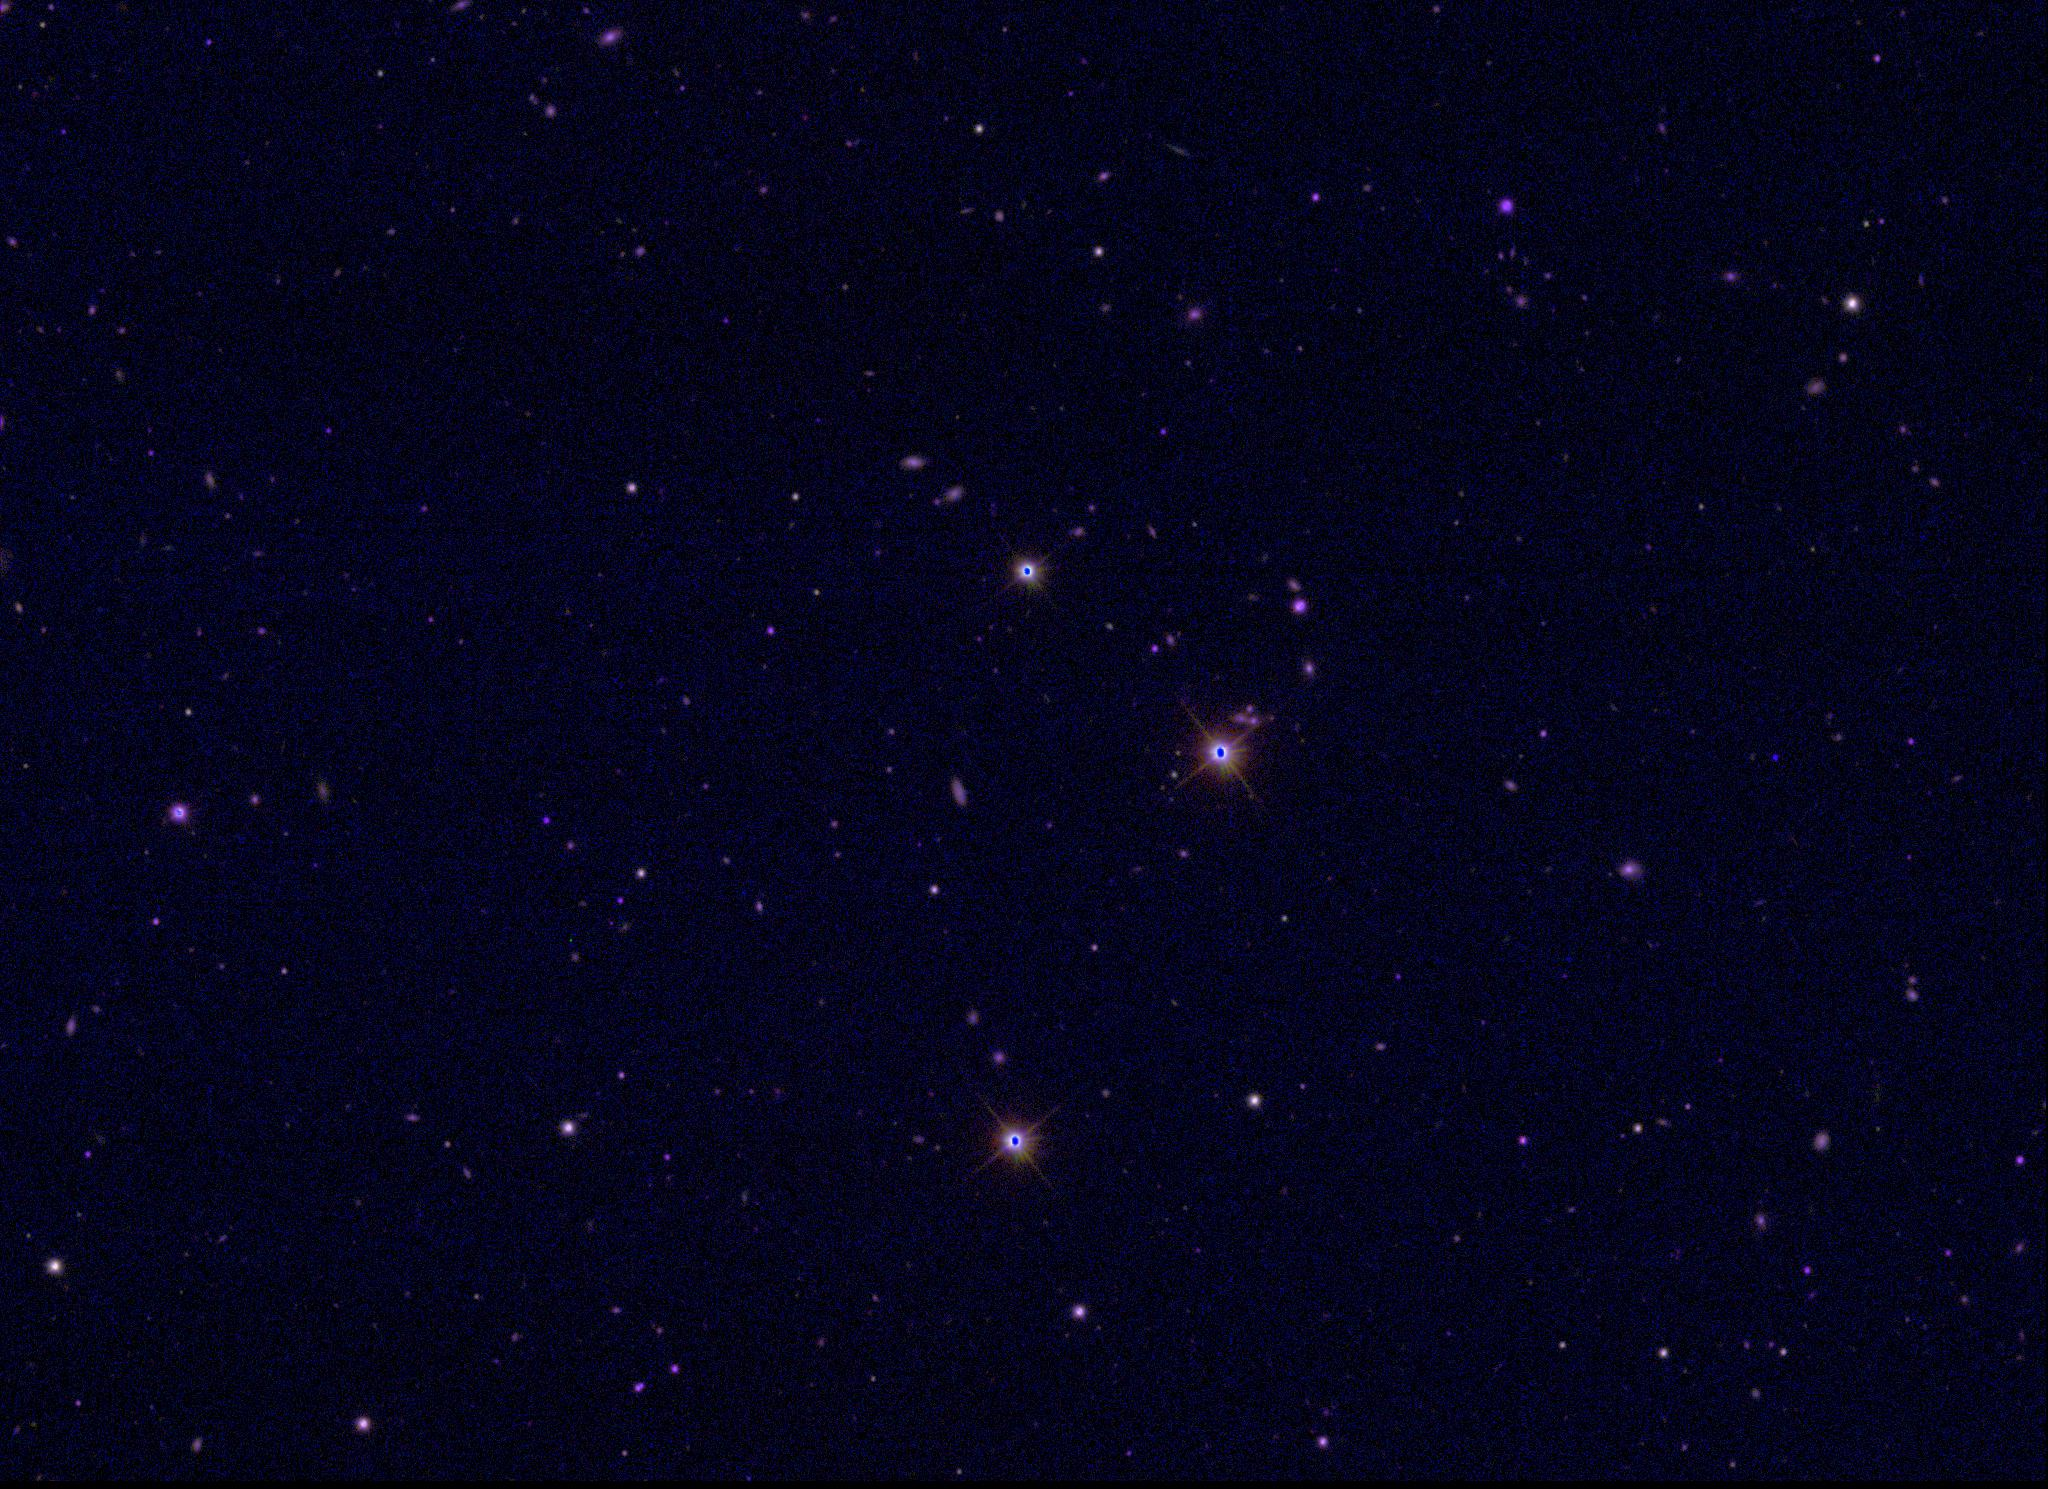L: (1767, 751, 1779, 765)
